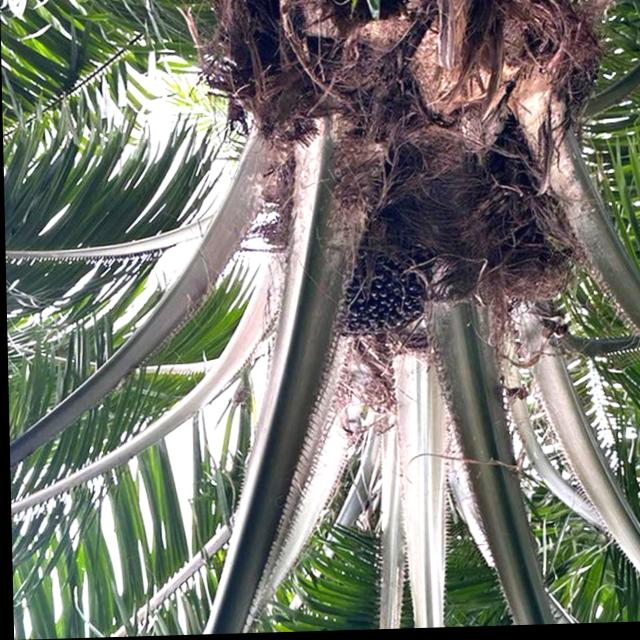unripe: (319, 242, 433, 344)
